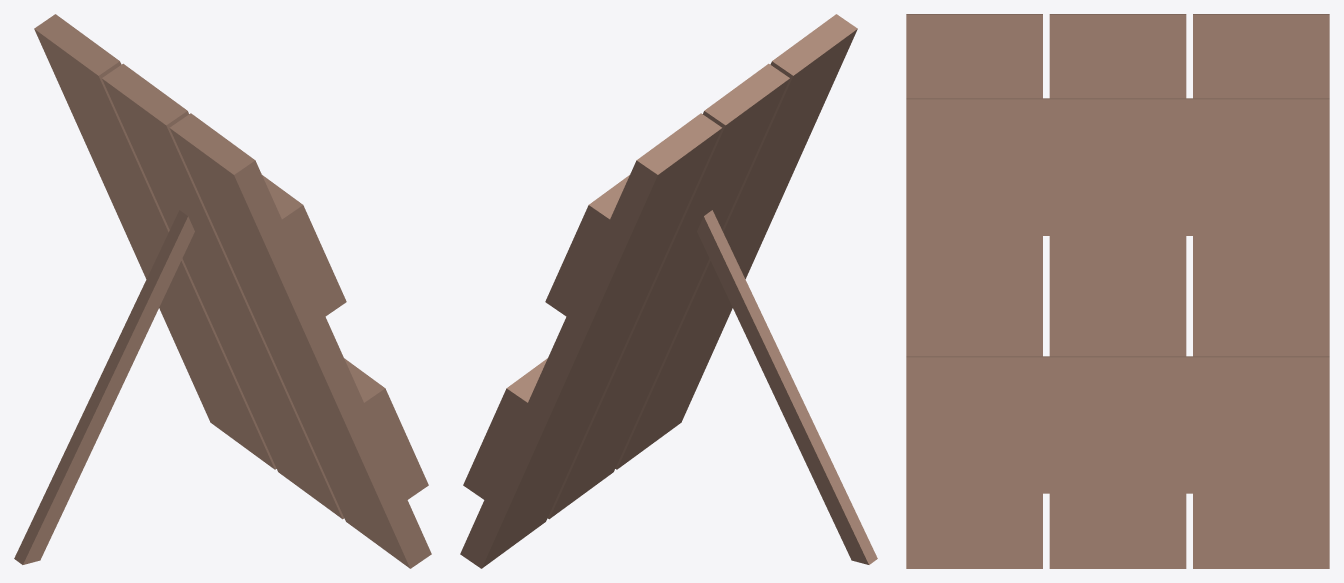
File: wall_01.fbx
The picture shows the model from 3 angles, left to right: view 1: azimuth 30°, elevation 25°; view 2: azimuth 150°, elevation 25°; view 3: azimuth 270°, elevation 25°; orthographic projection. The views are drawn at different scales.
Visible parts, largest first — view 1: polySurface1; view 2: polySurface1; view 3: polySurface1.
Boxes of the visible parts, box(x1,y1,x2,y2) form: polySurface1: box(14, 14, 431, 568); polySurface1: box(460, 14, 877, 568); polySurface1: box(906, 14, 1329, 568).
Bounding box in the file's own units: 0.8508 × 1.16 × 0.9399.
